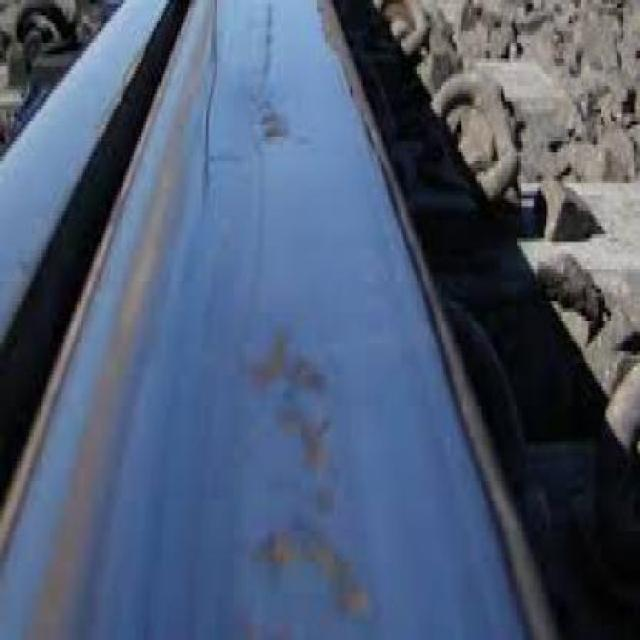defective: (11, 6, 584, 640)
